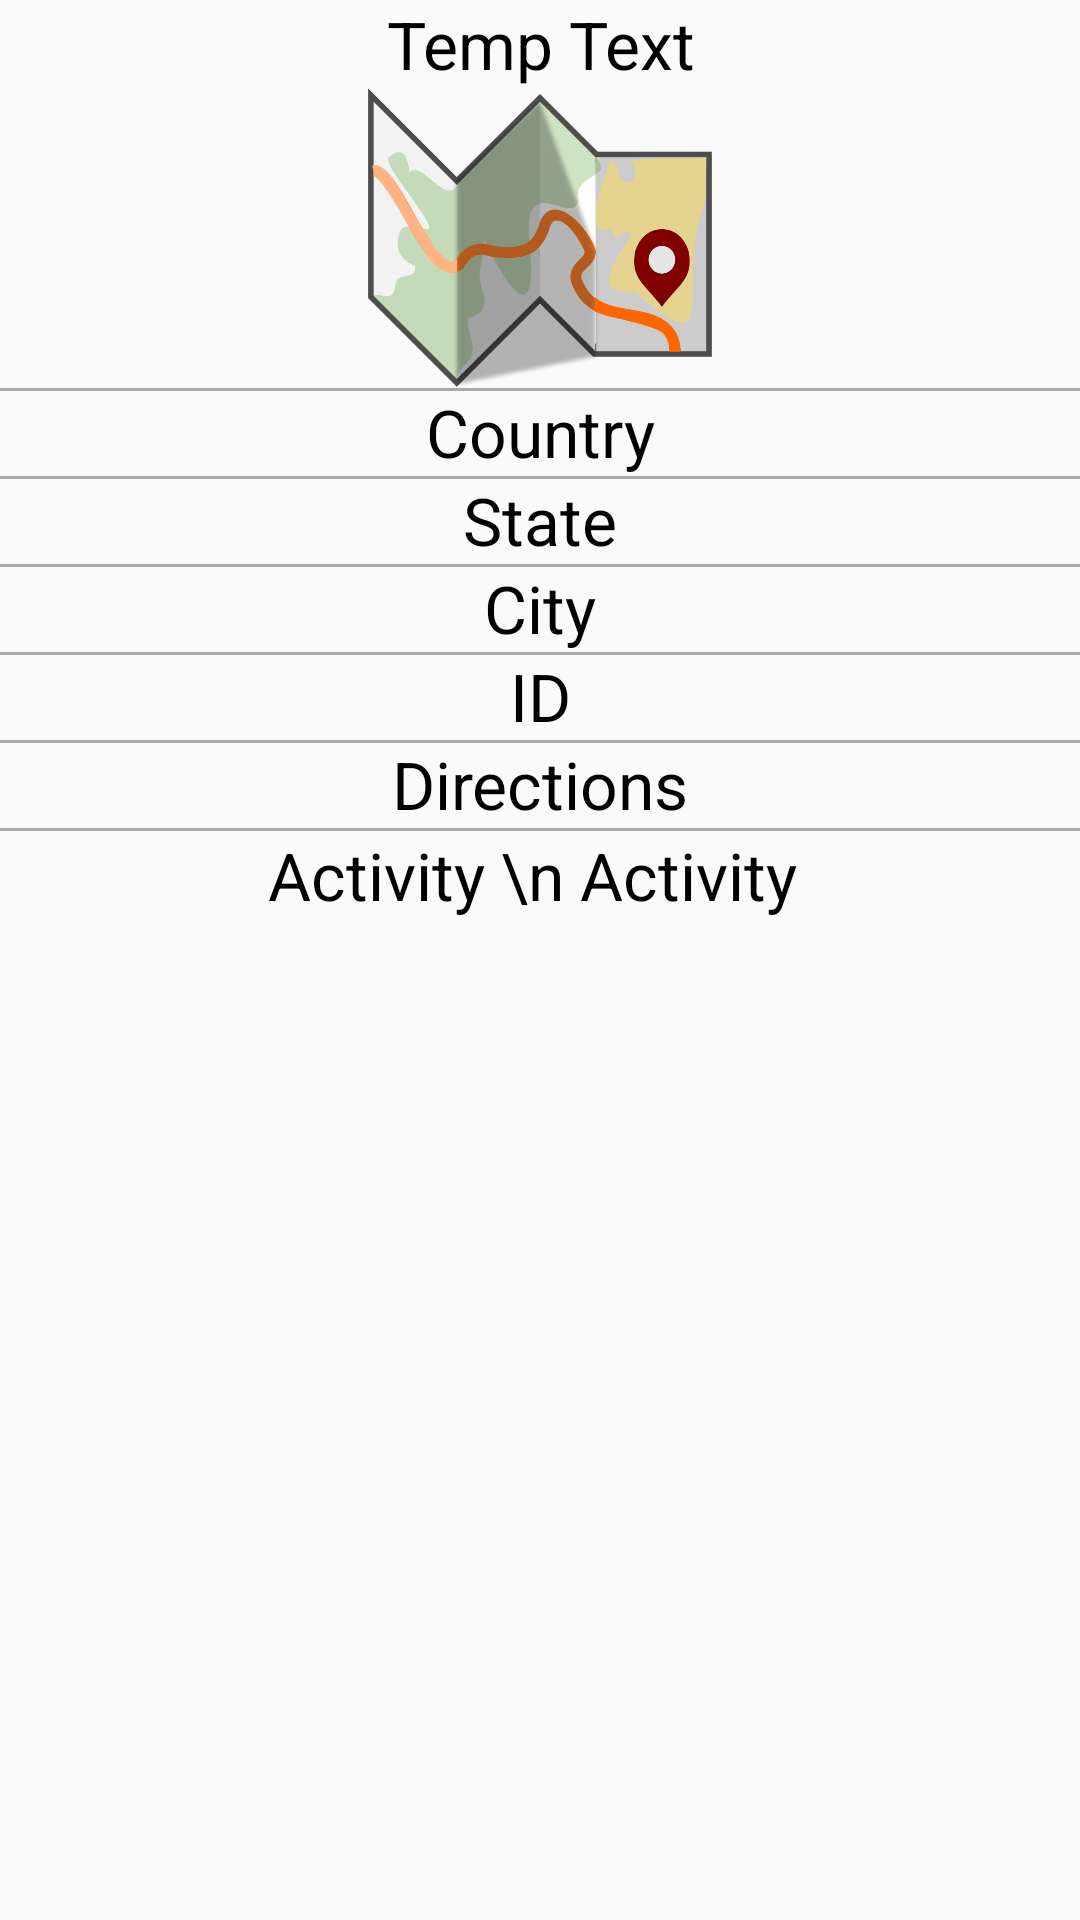

Icon click points for this 1080 × 1920 phone screenshot, format [x,y]:
map: [540,237]
